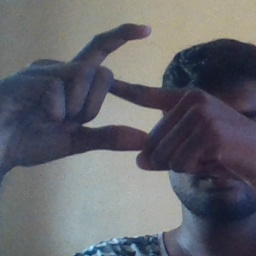E: (71, 19, 175, 156)
